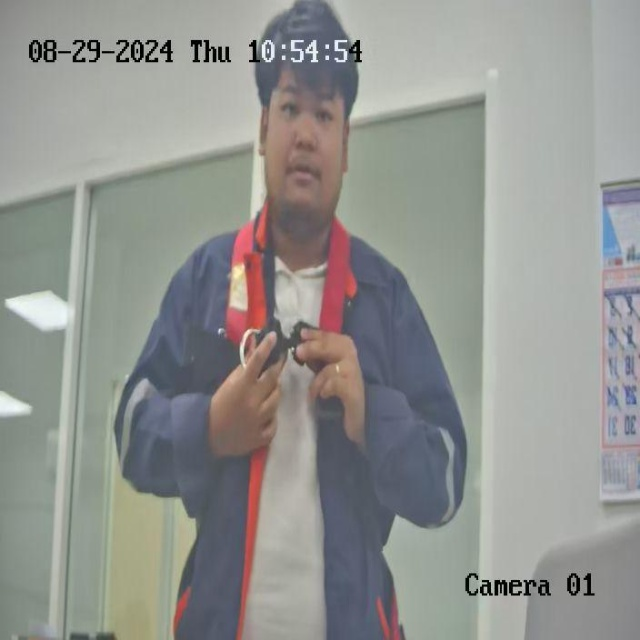Arnes_seguridad: (185, 197, 392, 600)
